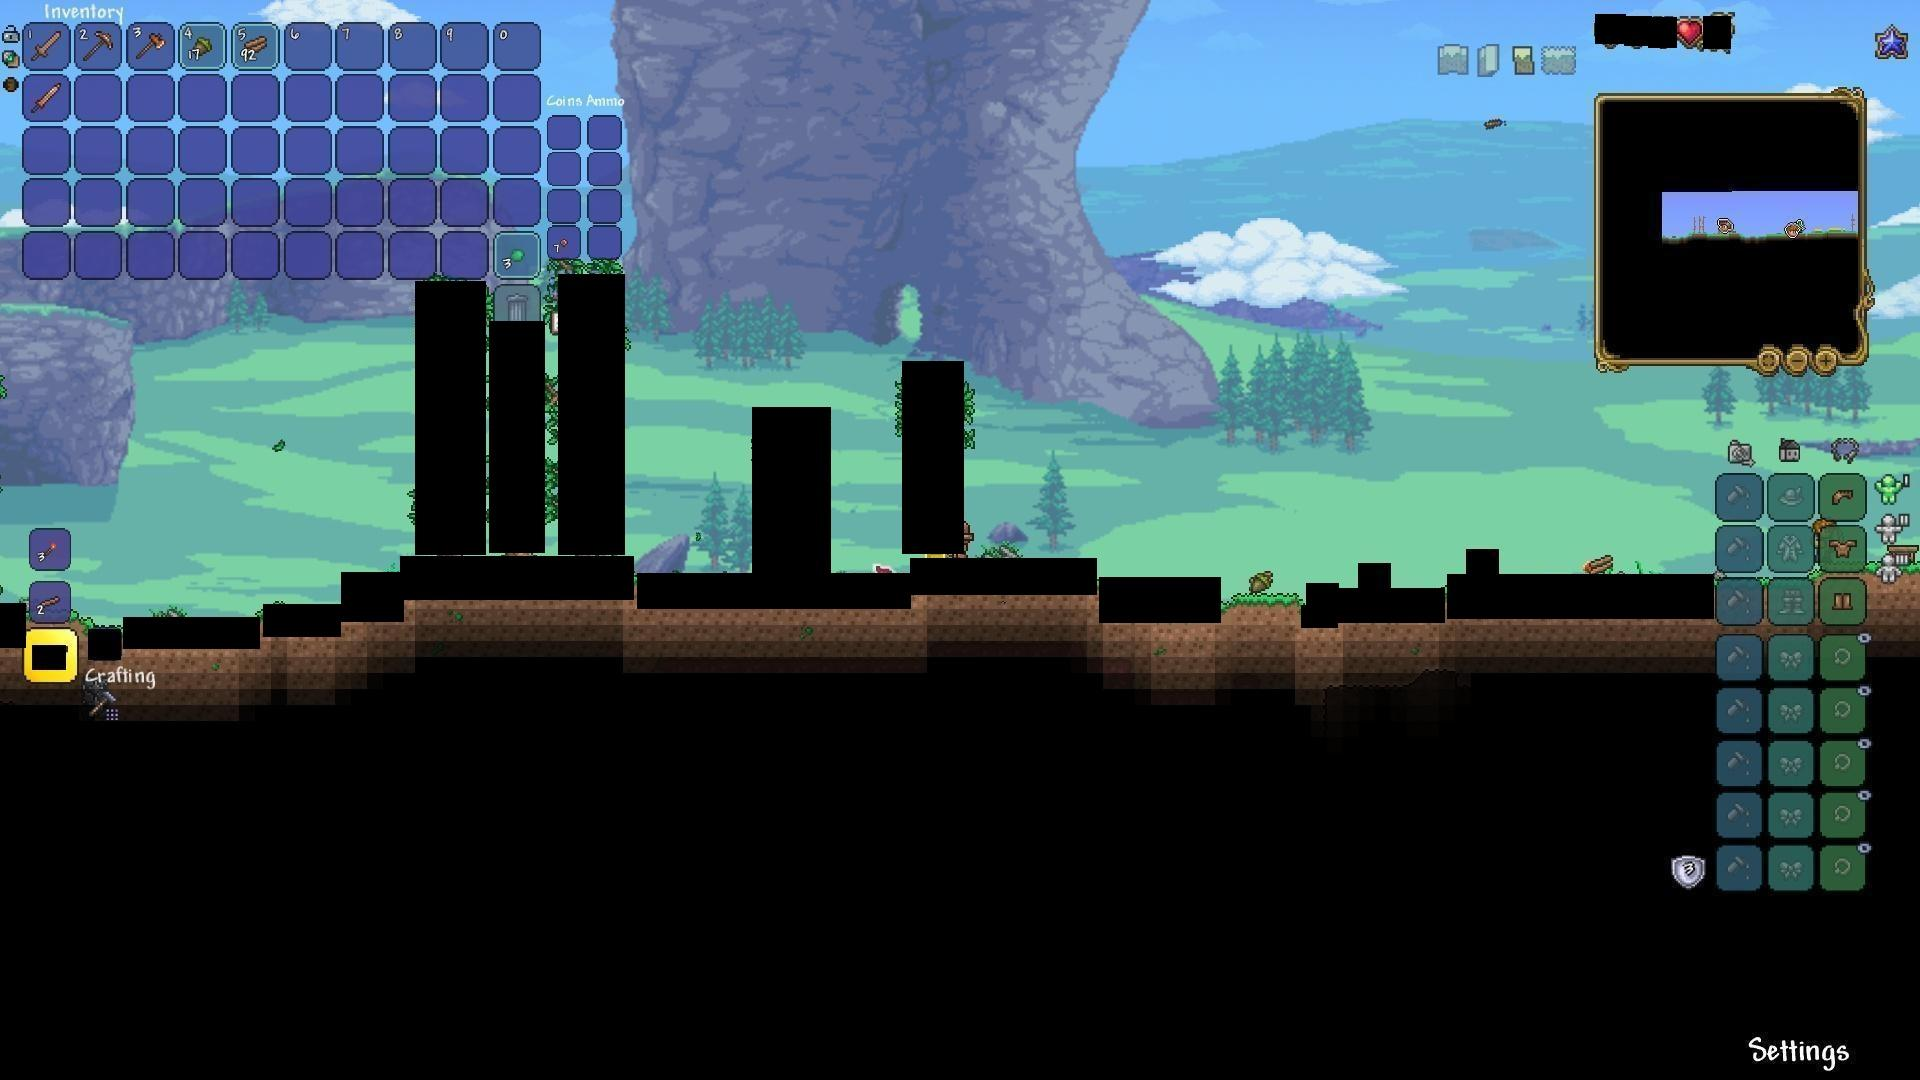breastplate: (1830, 535, 1859, 558)
dirt: (1222, 592, 1302, 625)
heart: (1675, 16, 1704, 47)
helmet: (1829, 485, 1857, 509)
legs: (1832, 587, 1857, 615)
wood: (239, 29, 272, 59), (1586, 553, 1618, 583)
workbench: (1883, 542, 1920, 567)
